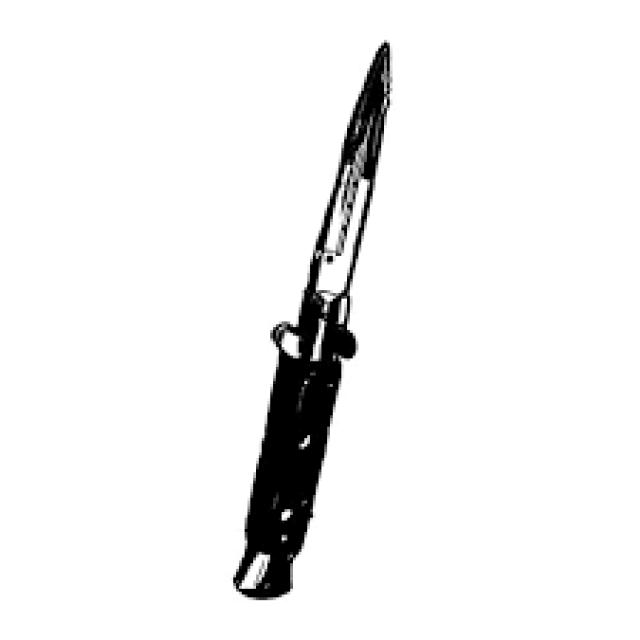knife: (215, 30, 413, 617)
